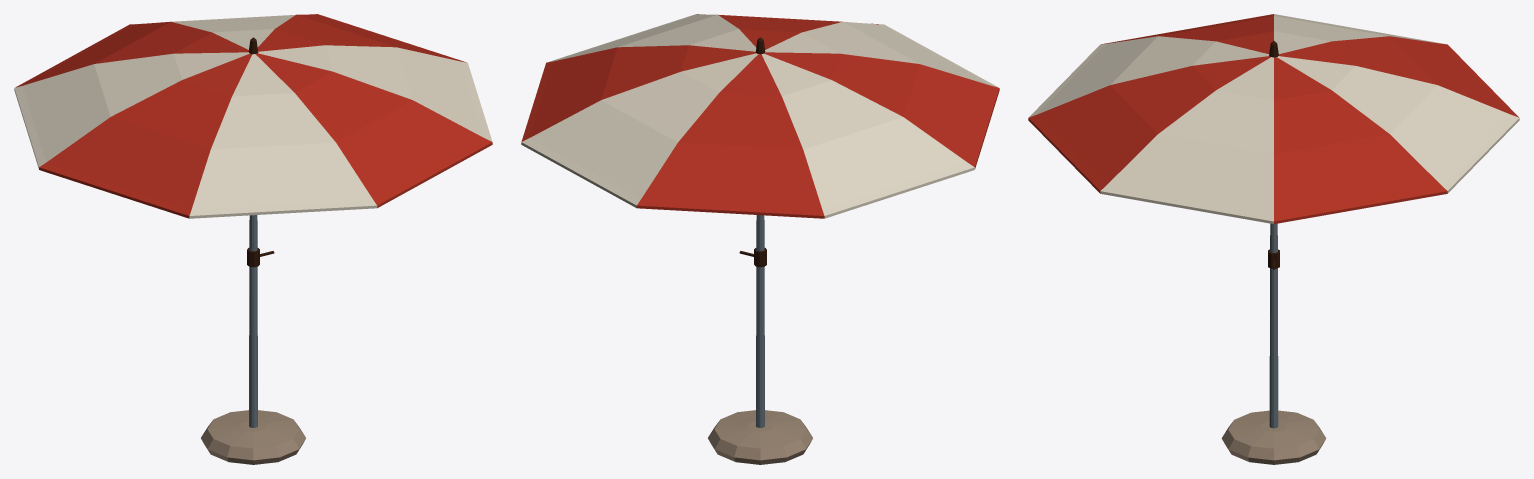
Rendered from INTERIOR_12_OutdoorUmbrella.obj.
3 views of the same model, side by side, from view 1: azimuth 30°, elevation 25°; view 2: azimuth 150°, elevation 25°; view 3: azimuth 270°, elevation 25° (orthographic).
Parts seen in each view (by area): view 1: INTERIOR_12_OutdoorUmbrella_Canopy, INTERIOR_12_OutdoorUmbrella_Base, INTERIOR_12_OutdoorUmbrella_Pole; view 2: INTERIOR_12_OutdoorUmbrella_Canopy, INTERIOR_12_OutdoorUmbrella_Base, INTERIOR_12_OutdoorUmbrella_Pole; view 3: INTERIOR_12_OutdoorUmbrella_Canopy, INTERIOR_12_OutdoorUmbrella_Base, INTERIOR_12_OutdoorUmbrella_Pole.
Boxes of the visible parts, x1,y1,x2,y2 form: INTERIOR_12_OutdoorUmbrella_Canopy: (14,14,492,218); INTERIOR_12_OutdoorUmbrella_Base: (201,410,305,464); INTERIOR_12_OutdoorUmbrella_Pole: (249,215,257,427); INTERIOR_12_OutdoorUmbrella_Canopy: (521,14,999,218); INTERIOR_12_OutdoorUmbrella_Base: (708,410,812,464); INTERIOR_12_OutdoorUmbrella_Pole: (756,215,764,427); INTERIOR_12_OutdoorUmbrella_Canopy: (1028,14,1519,223); INTERIOR_12_OutdoorUmbrella_Base: (1221,410,1326,464); INTERIOR_12_OutdoorUmbrella_Pole: (1269,223,1278,428).
Size of the model in its own units: 3 by 2.72 by 3.
